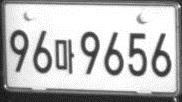5: (127, 32, 148, 77)
6: (103, 30, 125, 77), (33, 29, 53, 74), (151, 32, 171, 77)
9: (80, 30, 101, 75), (9, 29, 29, 73)
마: (54, 38, 75, 75)
